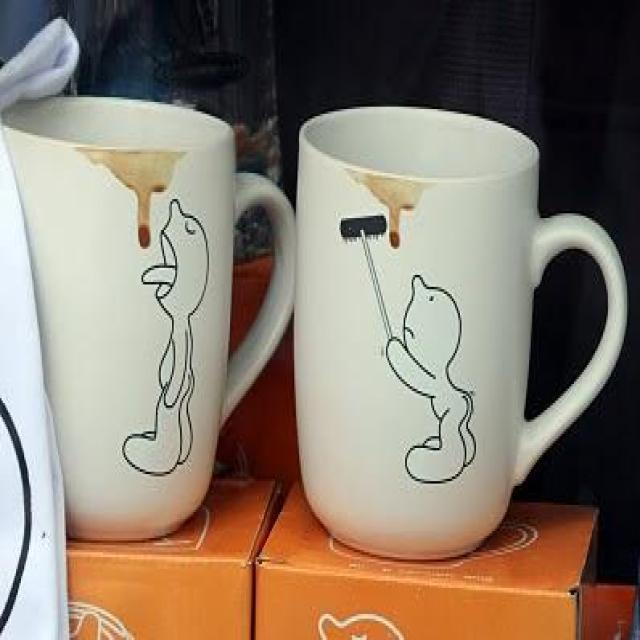Coffee Mug: (294, 104, 627, 564), (1, 95, 296, 543)
